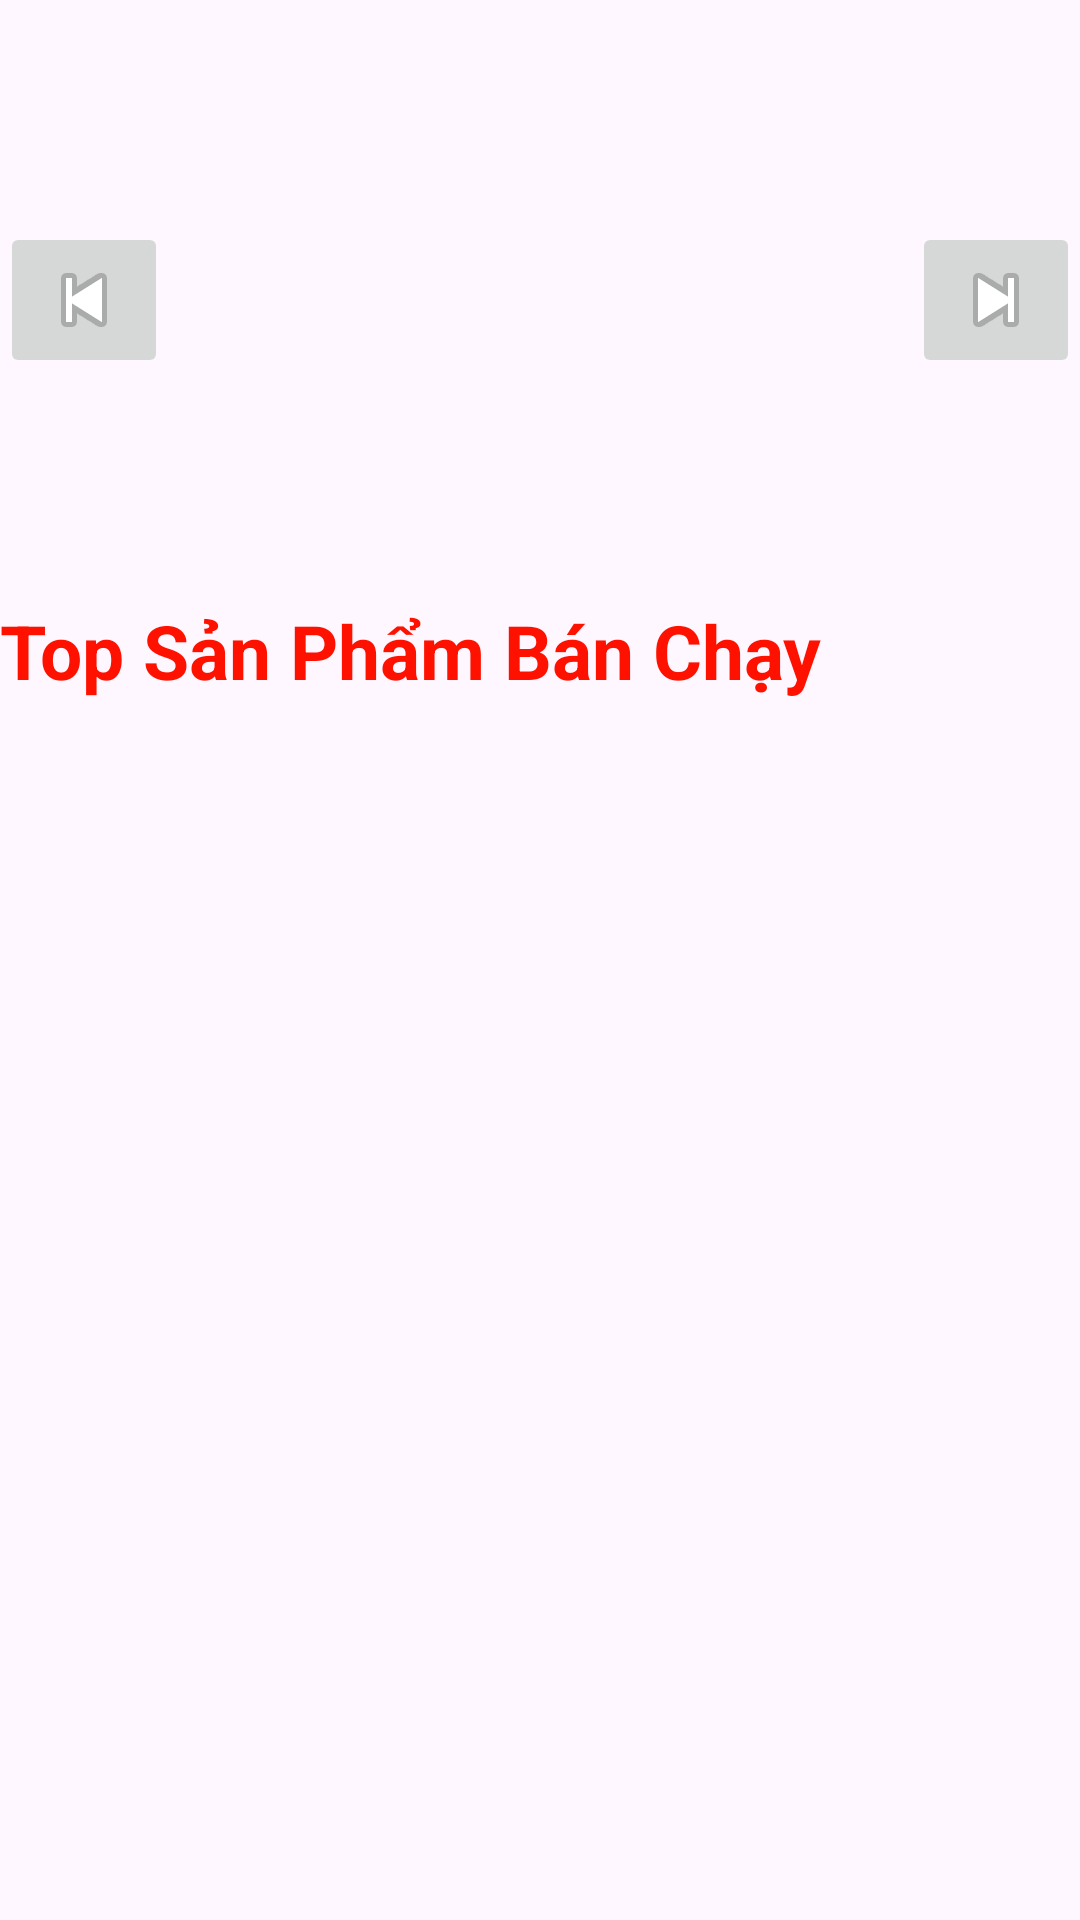

Icon click points for this 1080 x 1920 phone screenshot, format (x=x, y=y):
next: (x=996, y=300)
previous: (x=84, y=300)
